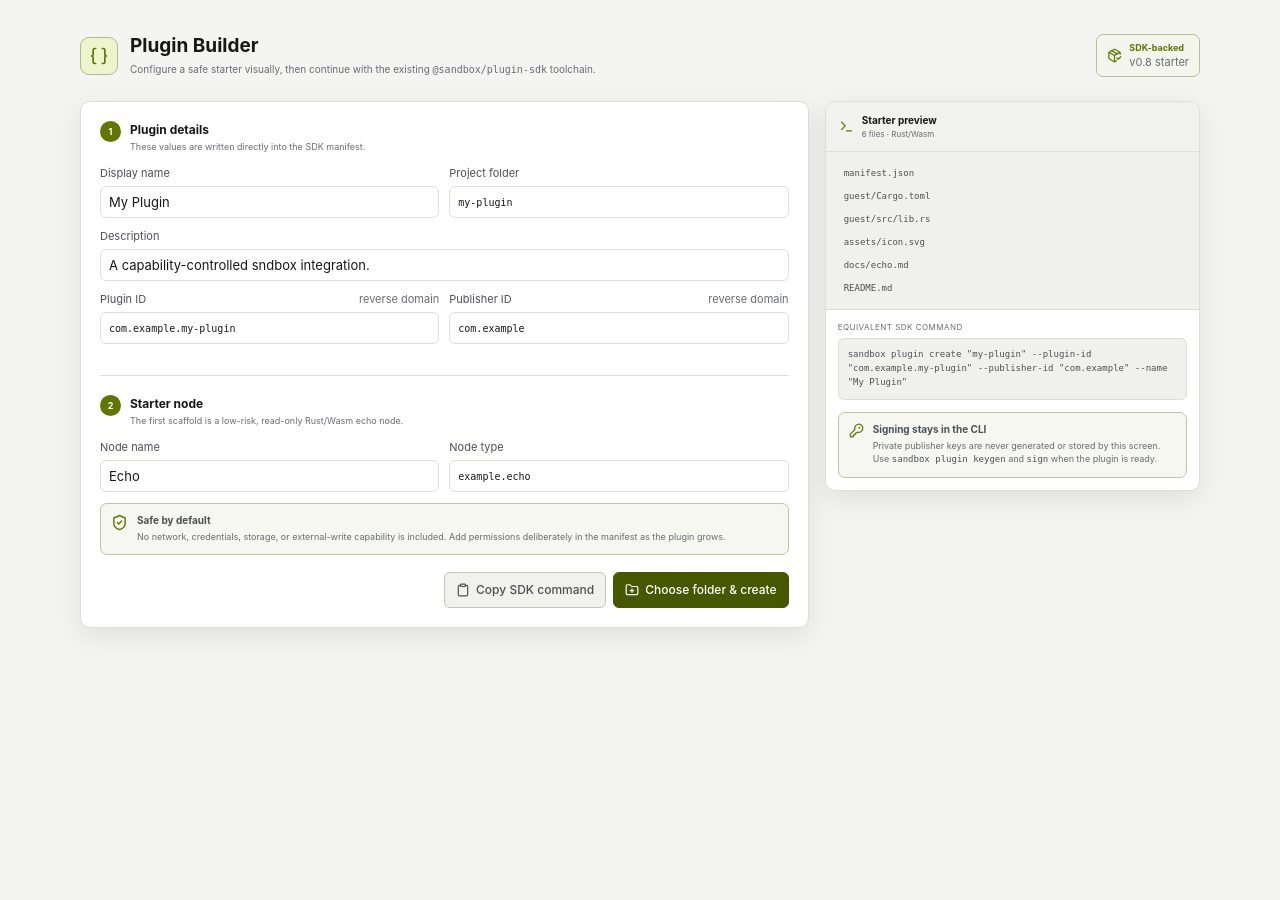
Test: PluginBuilderView › creates the SDK-backed starter with the configured manifest
Replace the text in the field labelled "Display name" with "Weather Tools". click: (270, 202)
box: [100,186,439,218]
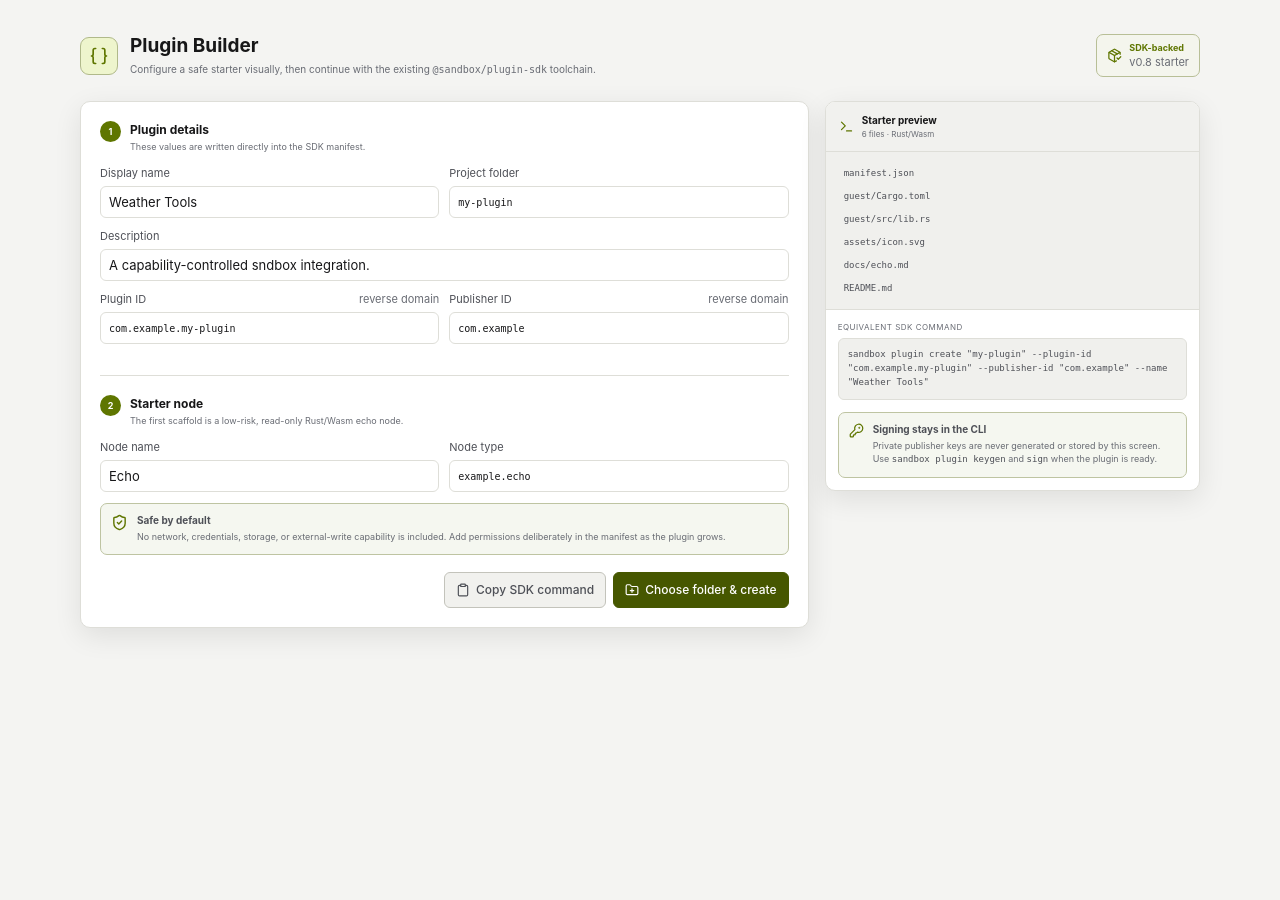
Replace the text in the field labelled "Plugin ID reverse domain" with "uk.sndbox.weather". click: (270, 328)
box: [100,312,439,344]
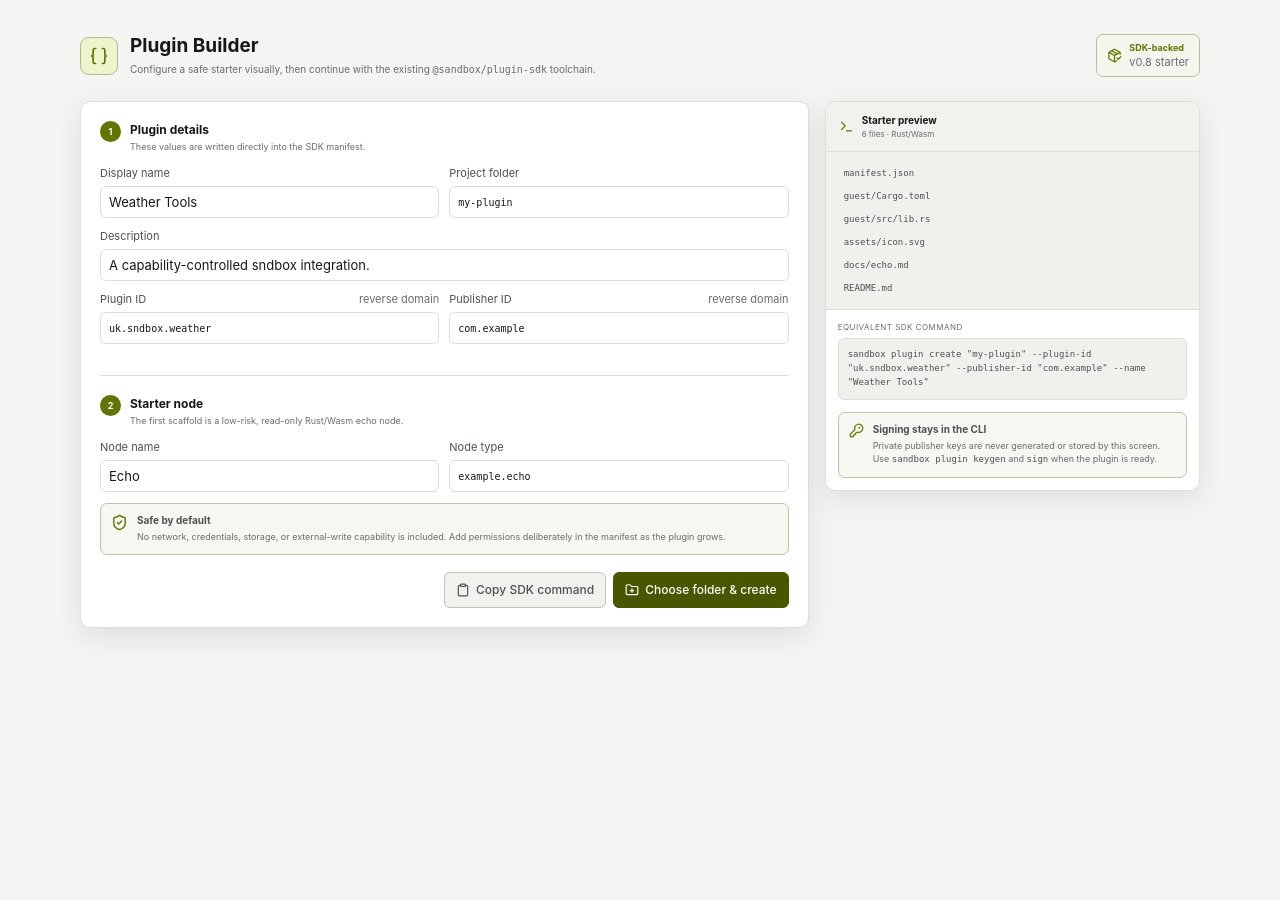
Replace the text in the field labelled "Publisher ID reverse domain" with "uk.sndbox". click: (619, 328)
box: [449,312,789,344]
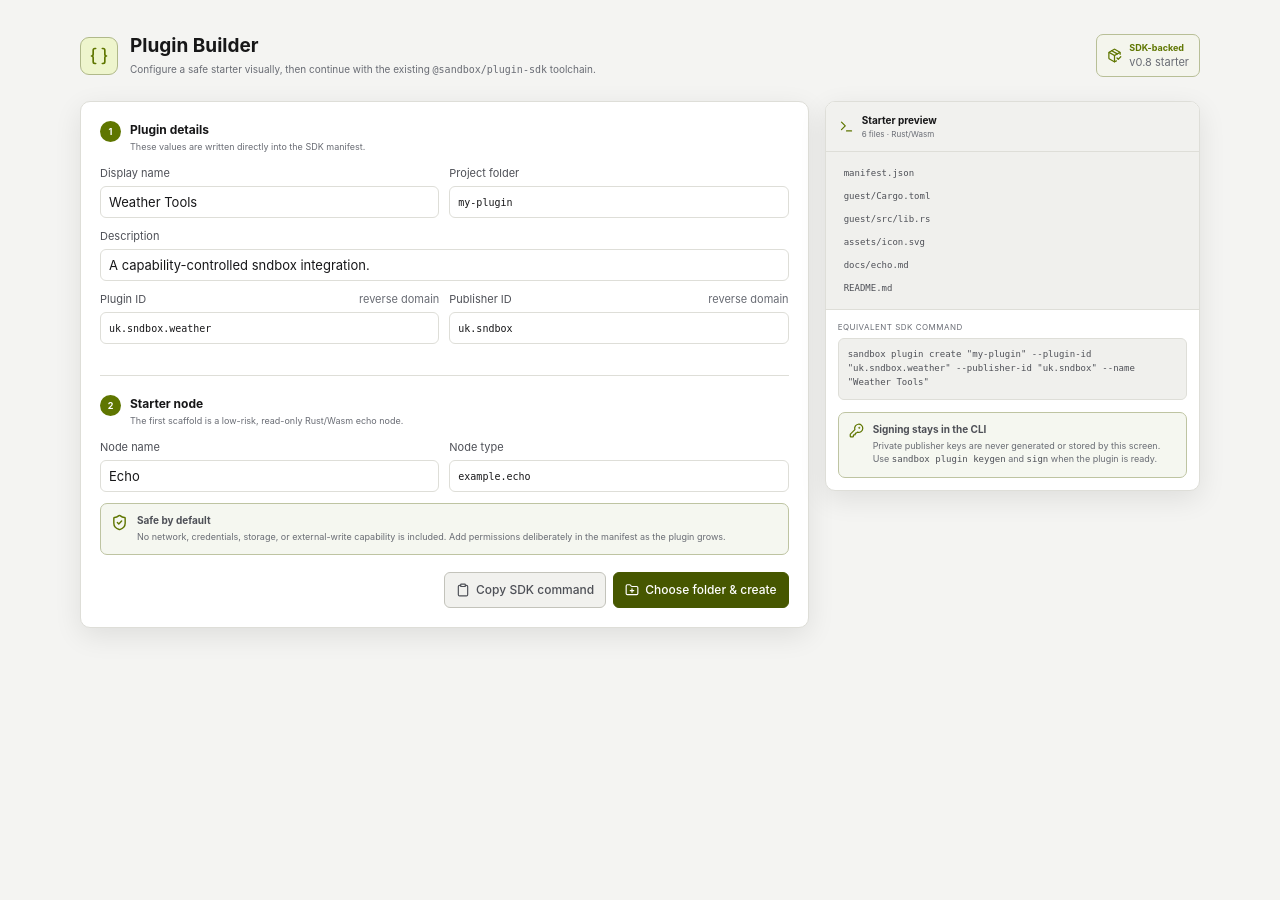
Click the button "Choose folder & create". click: (701, 590)
box: [613,572,789,608]
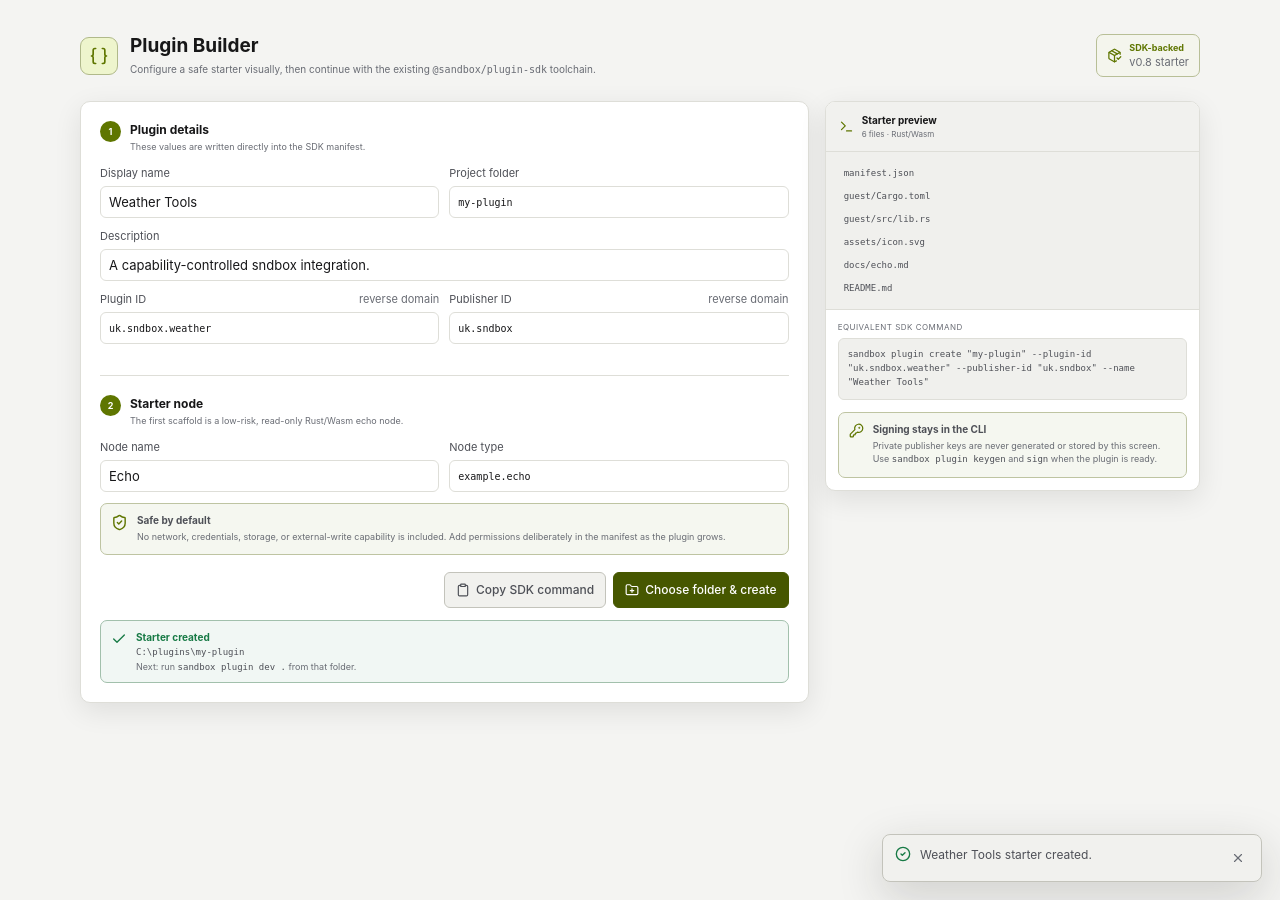
Now the text "Starter created" is shown, box [136,630,210,642]
